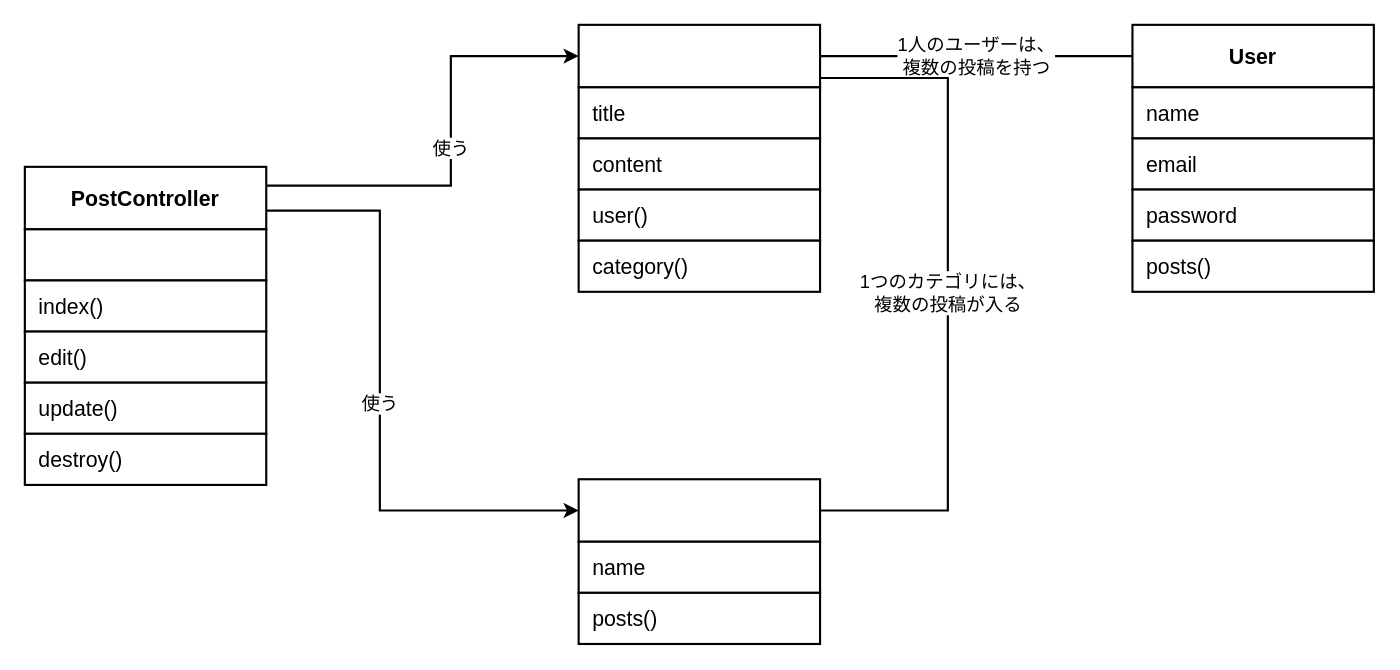
The diagram is 1400 pixels wide and 670 high, and some of its shapes have lost their labels. The shapes that lost their labels are listed below. From the top down, each one's box as (x1, y1, x2, y2) in pixels, then its label:
(577, 23, 820, 88): Post
(577, 478, 820, 542): Category
